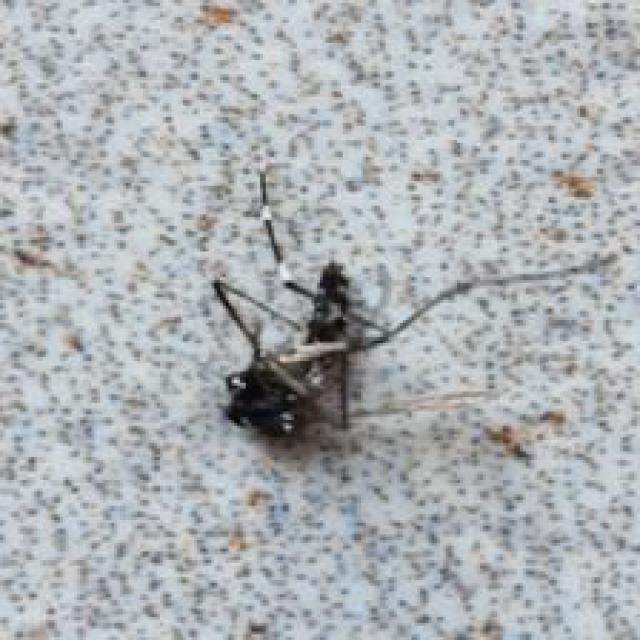Aedes albopictus: (209, 165, 617, 442)
